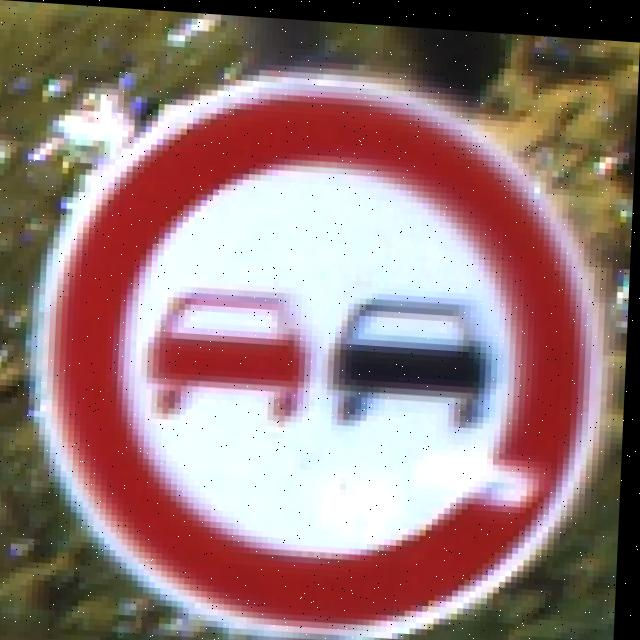no_overtaking: (65, 84, 617, 640)
